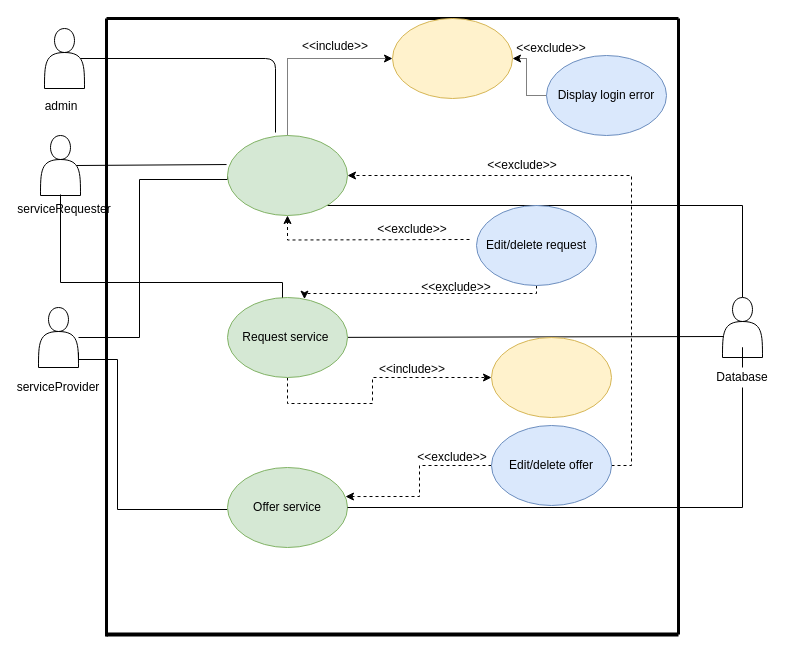
Some shapes in this 785 by 656 pixel diagram are drawn without their labels. Here are the shapes that lost their labels. From the top down, the centre of each, then its label:
(x=452, y=58): Verify password
(x=287, y=175): Login
(x=551, y=377): Publish request
